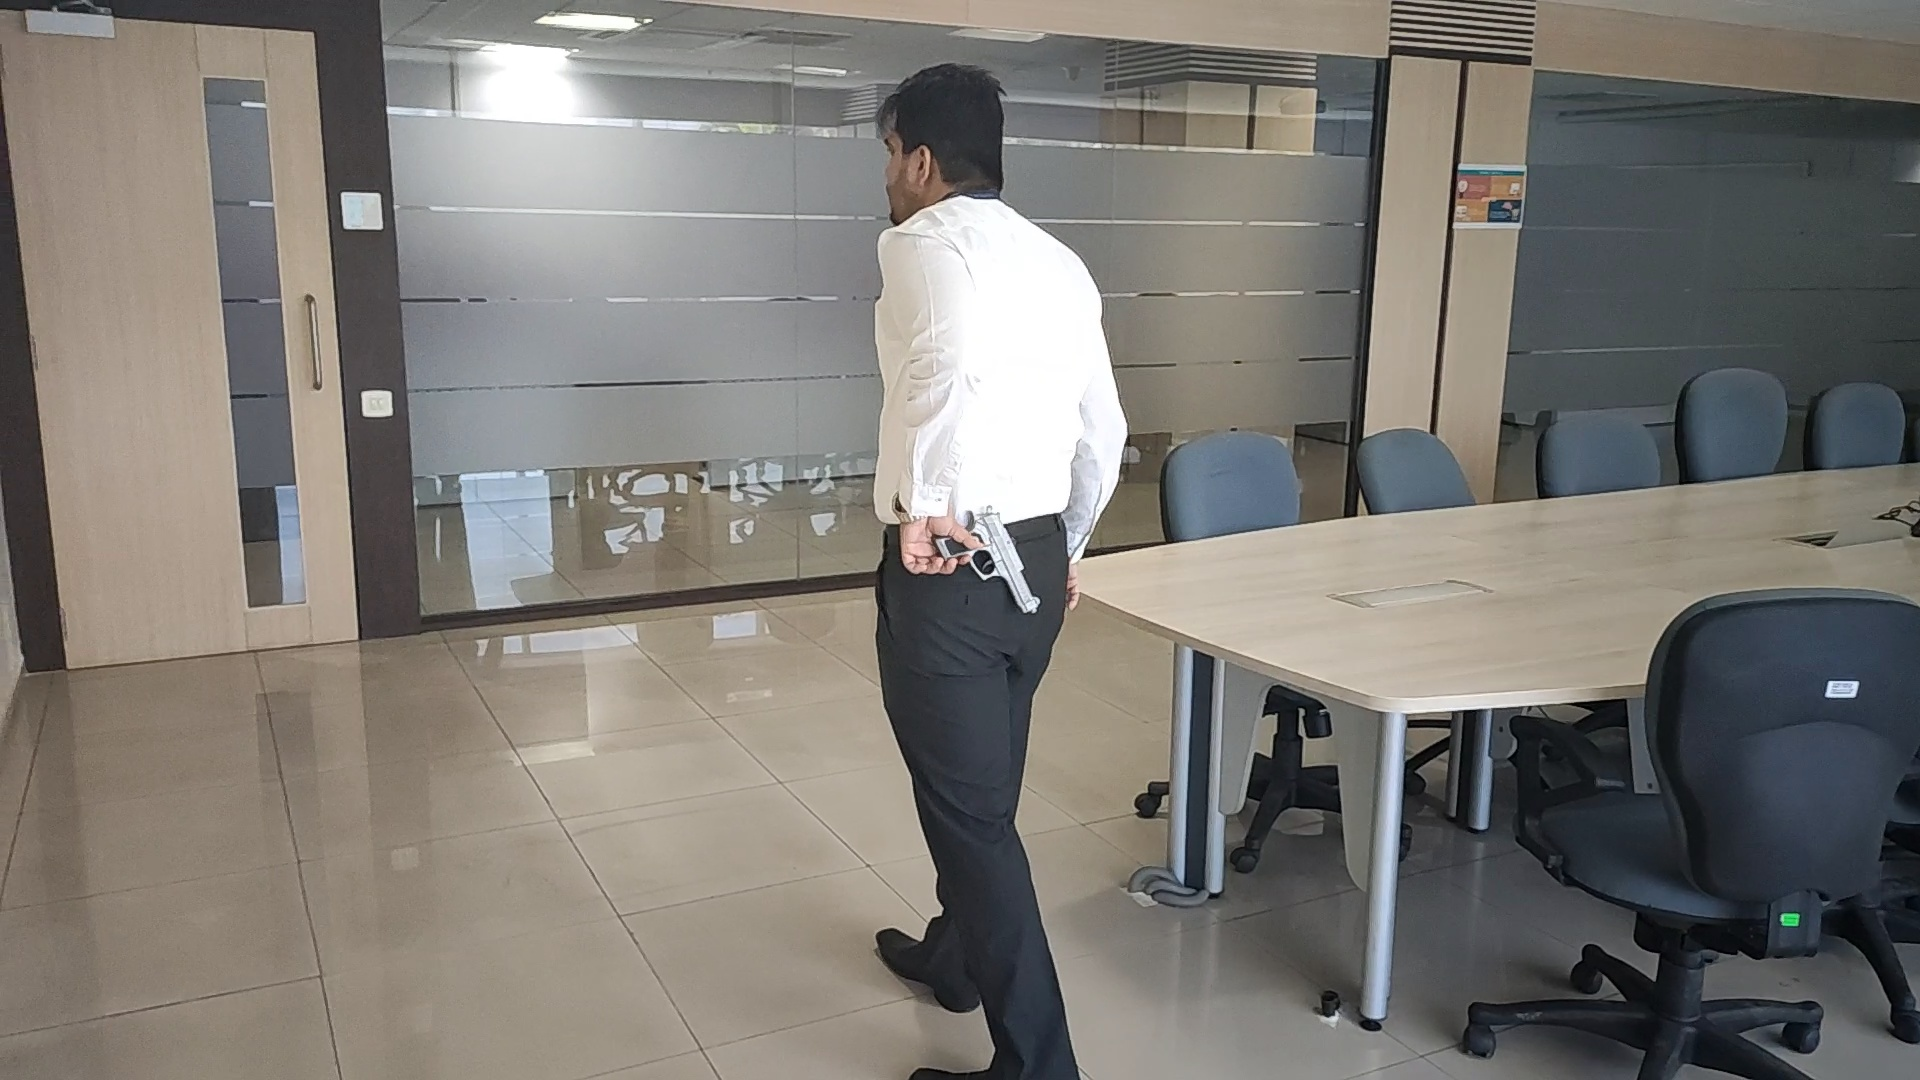gun: (935, 506, 1039, 615)
